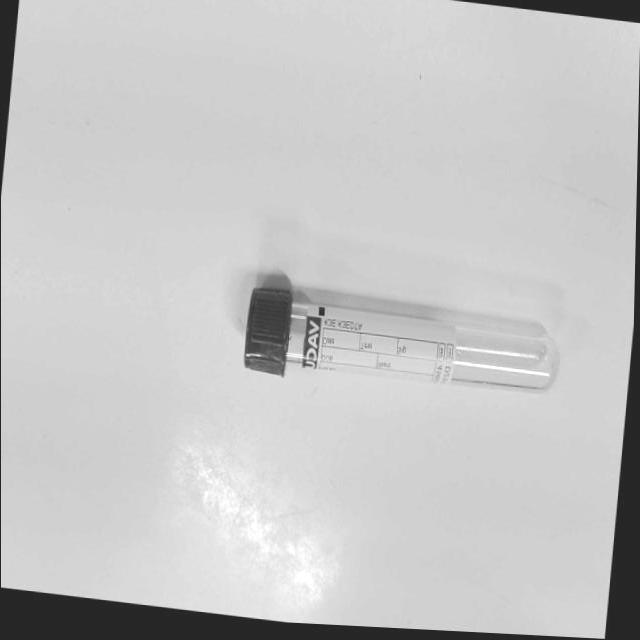Pathological: (1, 1, 638, 637)
Sharps: (243, 285, 561, 392)
